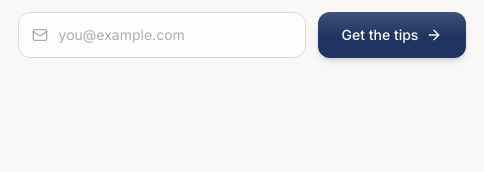
Test: WaitlistForm › submits the email and shows the success state
Type "Ada@Example.com" into the field at (162, 35), box [18,12,306,58]
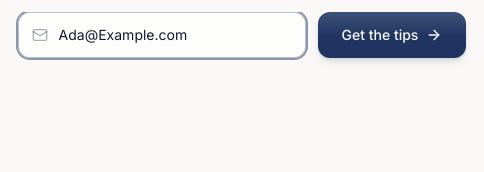
Click the button "Get the tips" at (392, 35), box [318,12,466,58]
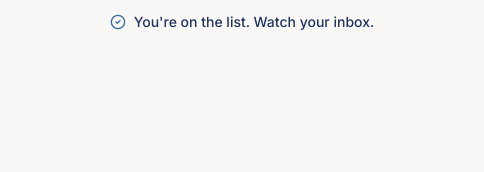
expect the text "You're on the list. Watch your inbox." is shown: met, box [110,13,374,30]
expect the button "Get the tips" is gone: met
